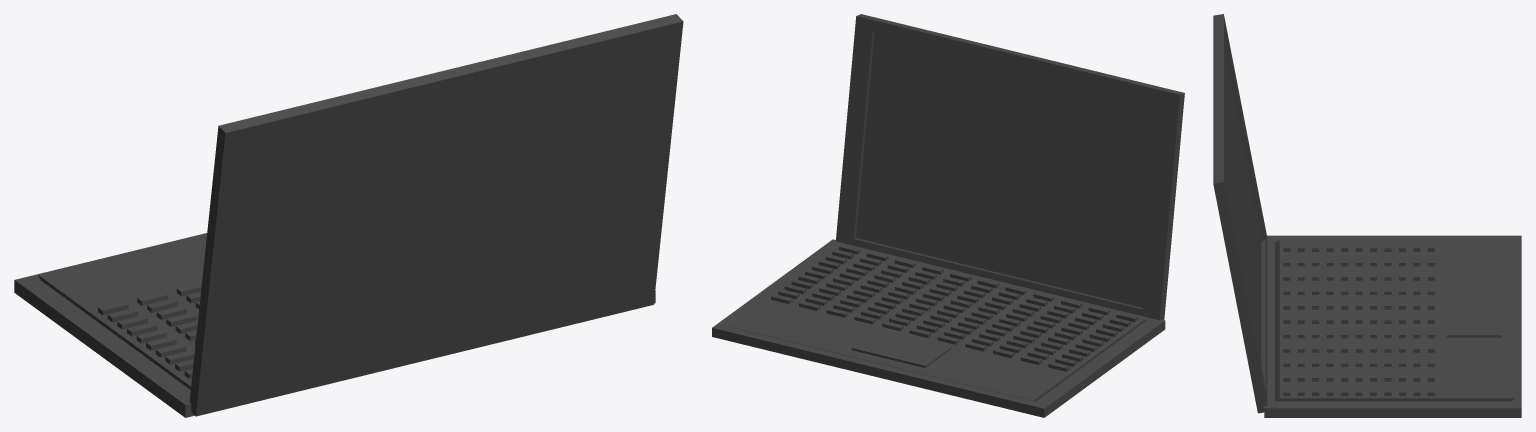
The model's file is 1Laptop.fbx.
3 renders of one model, left to right at view 1: azimuth 30°, elevation 25°; view 2: azimuth 150°, elevation 25°; view 3: azimuth 270°, elevation 25°, orthographic. The views are drawn at different scales.
Parts seen in each view (by area): view 1: 1Laptop; view 2: 1Laptop; view 3: 1Laptop.
Part boxes in pixels (x1,y1,x2,y2): 1Laptop: (14, 14, 683, 417); 1Laptop: (712, 14, 1184, 417); 1Laptop: (1213, 14, 1521, 417).
Size of the model in its own units: 234 by 148 by 177.
